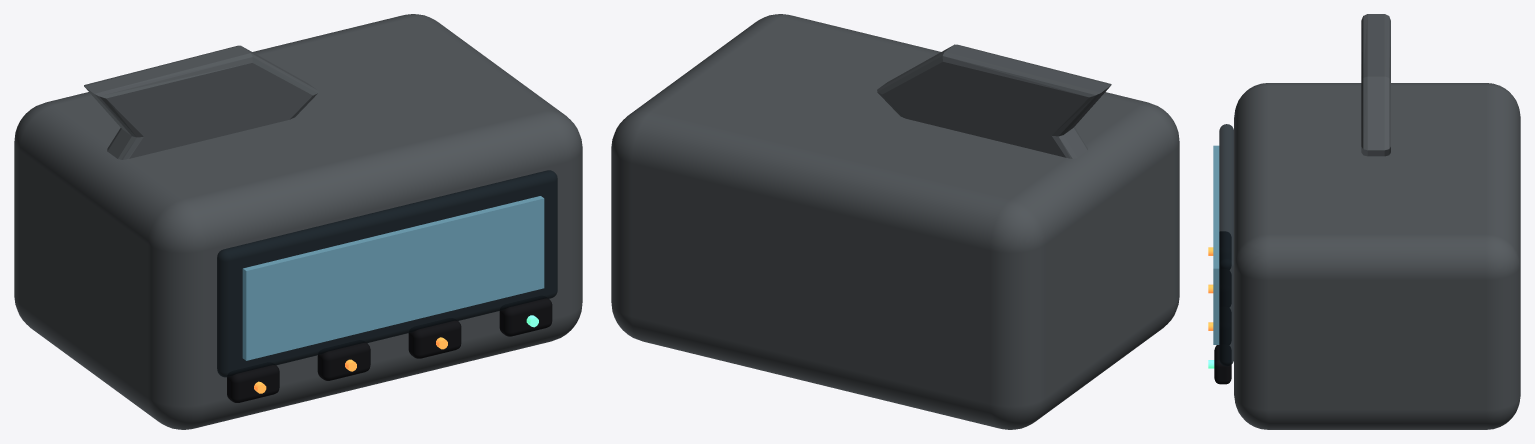
The model's file is control-plane.glb.
The picture shows the model from 3 angles, left to right: view 1: azimuth 30°, elevation 25°; view 2: azimuth 150°, elevation 25°; view 3: azimuth 270°, elevation 25°; orthographic projection. The views are drawn at different scales.
Visible parts, largest first — view 1: FabricControlPlane_Chassis, FabricControlPlane_DisplayRecess, FabricControlPlane_DisplayGlass, FabricControlPlane_ZolliRail, FabricControlPlane_Port_4, FabricControlPlane_Port_3, FabricControlPlane_Port_2, FabricControlPlane_Port_1; view 2: FabricControlPlane_Chassis, FabricControlPlane_ZolliRail; view 3: FabricControlPlane_Chassis, FabricControlPlane_ZolliRail, FabricControlPlane_DisplayGlass, FabricControlPlane_DisplayRecess, FabricControlPlane_Port_4, FabricControlPlane_Port_3, FabricControlPlane_Port_1, FabricControlPlane_Port_2.
Part boxes in pixels (<box>): FabricControlPlane_Chassis: <box>14,14,582,429</box>; FabricControlPlane_DisplayRecess: <box>242,196,544,360</box>; FabricControlPlane_DisplayGlass: <box>217,170,557,377</box>; FabricControlPlane_ZolliRail: <box>84,45,318,159</box>; FabricControlPlane_Port_4: <box>499,296,552,336</box>; FabricControlPlane_Port_3: <box>408,318,461,358</box>; FabricControlPlane_Port_2: <box>317,340,370,380</box>; FabricControlPlane_Port_1: <box>227,363,279,402</box>; FabricControlPlane_Chassis: <box>611,14,1179,429</box>; FabricControlPlane_ZolliRail: <box>877,44,1111,158</box>; FabricControlPlane_Chassis: <box>1234,83,1520,429</box>; FabricControlPlane_ZolliRail: <box>1361,14,1390,156</box>; FabricControlPlane_DisplayGlass: <box>1219,124,1233,366</box>; FabricControlPlane_DisplayRecess: <box>1213,145,1219,344</box>; FabricControlPlane_Port_4: <box>1214,344,1231,384</box>; FabricControlPlane_Port_3: <box>1216,307,1230,345</box>; FabricControlPlane_Port_1: <box>1220,232,1230,269</box>; FabricControlPlane_Port_2: <box>1220,269,1230,306</box>.
Bounding box in the file's own units: 1.7 × 1.14 × 1.26.
